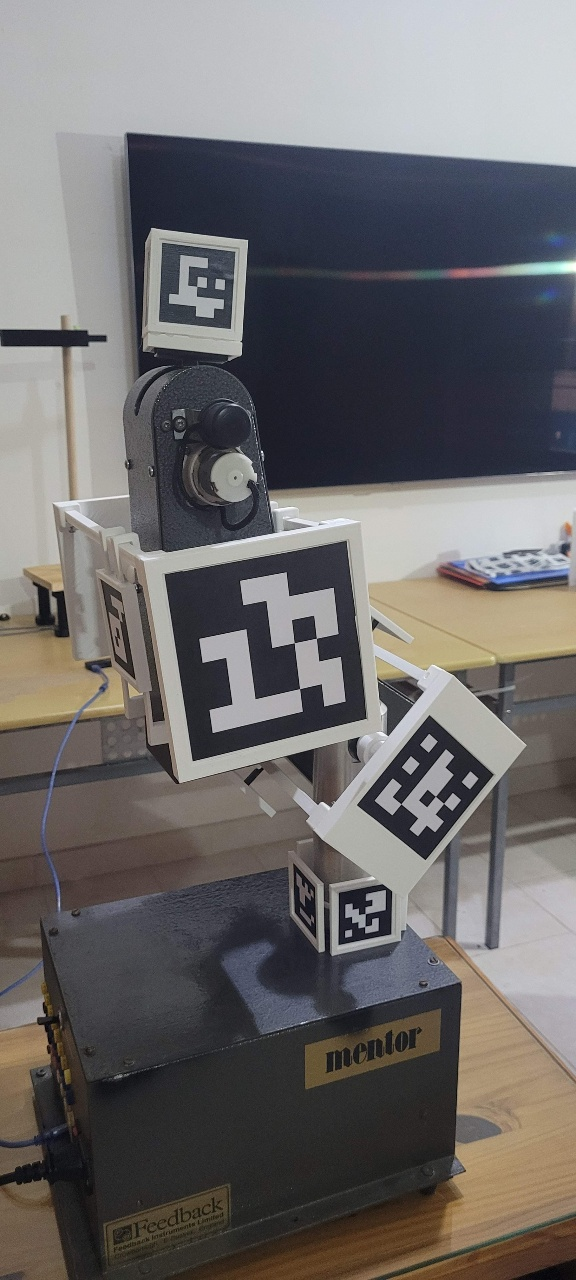Robot: (51, 228, 529, 958)
